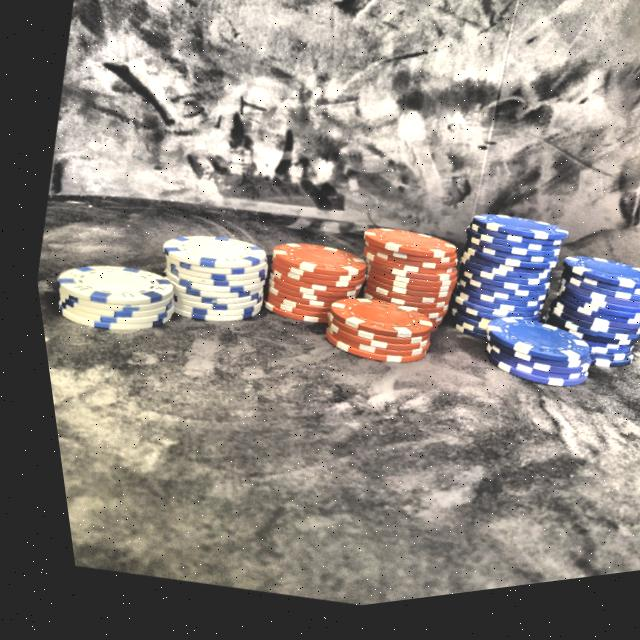-: (461, 313, 594, 417)
Chip: (427, 211, 572, 373), (319, 210, 472, 360), (127, 215, 278, 356), (523, 254, 640, 402), (240, 231, 377, 357), (36, 244, 177, 357), (298, 285, 435, 392)
